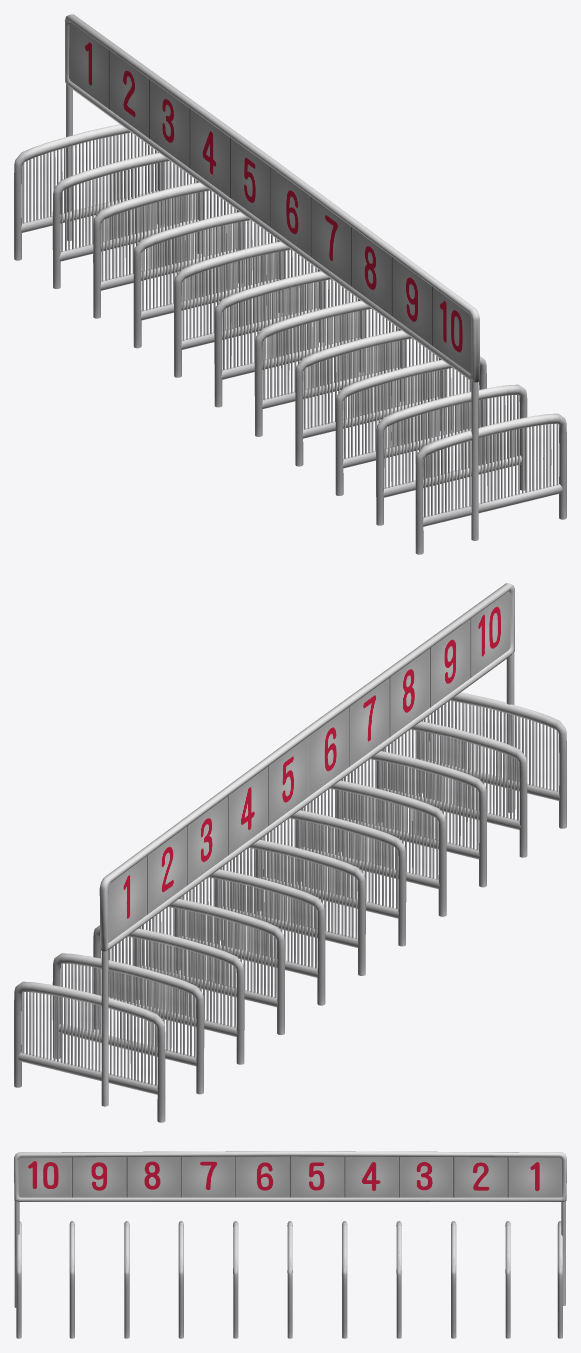
The picture shows the model from 3 angles, top to bottom: view 1: azimuth 30°, elevation 25°; view 2: azimuth 150°, elevation 25°; view 3: azimuth 270°, elevation 25°; orthographic projection. The views are drawn at different scales.
Visible parts, largest first — view 1: Box03; view 2: Box03; view 3: Box03.
Part boxes in pixels (<box>): Box03: <box>14,14,566,554</box>; Box03: <box>14,583,566,1122</box>; Box03: <box>14,1151,566,1338</box>.
Size of the model in its own units: 0.1956 by 0.9243 by 0.289.
